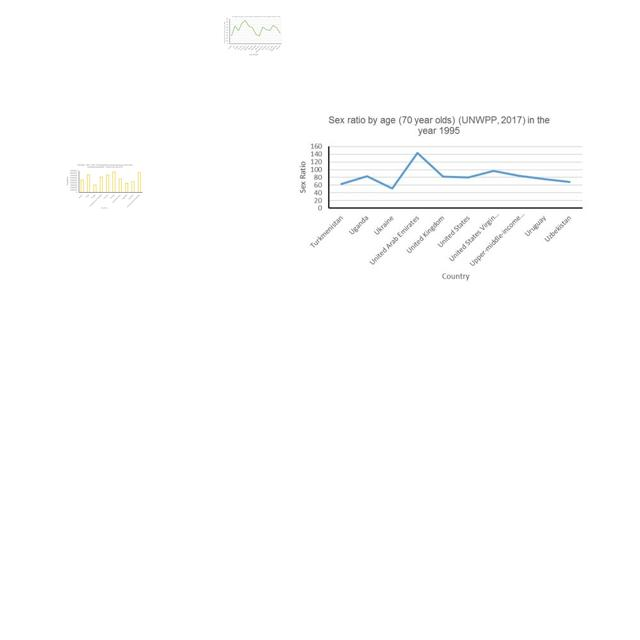Graph: (292, 111, 587, 283), (66, 163, 144, 210), (222, 15, 283, 57)
